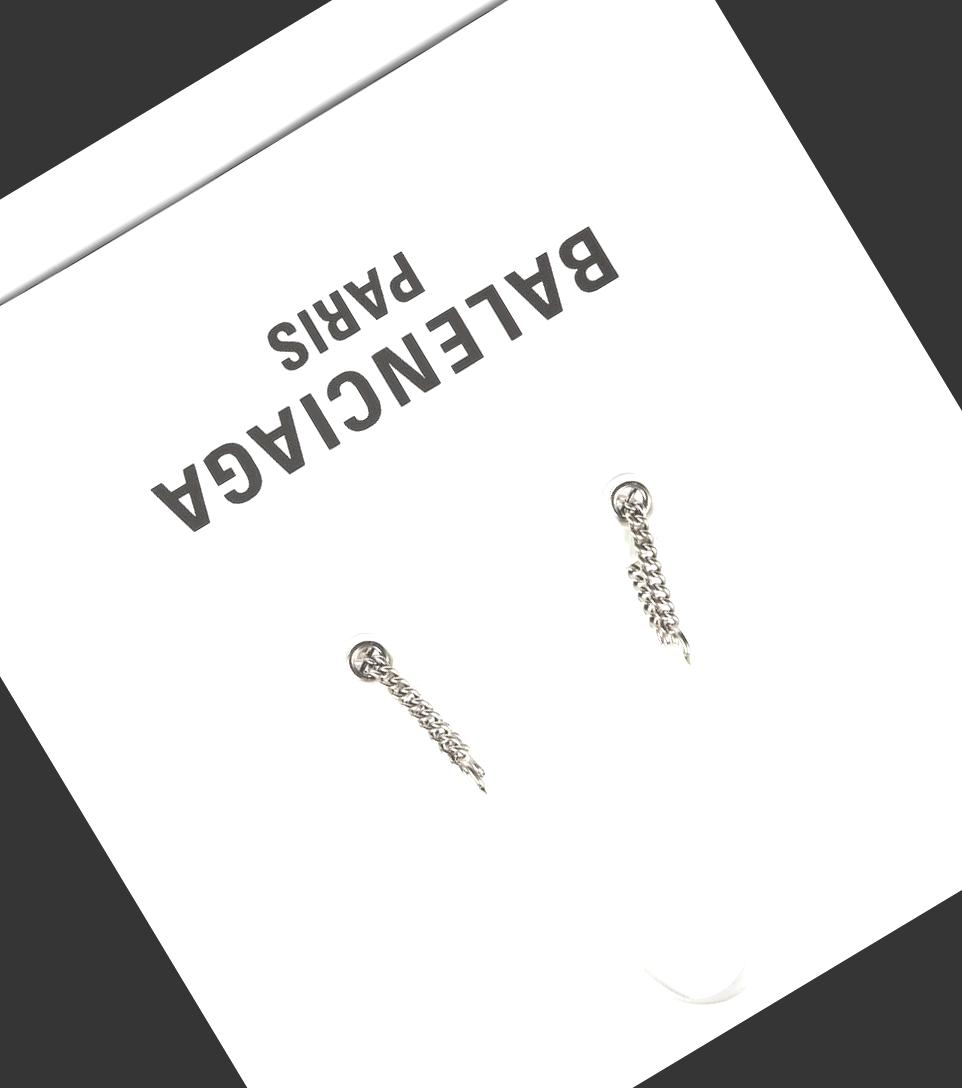BALENCIAGA: (147, 224, 620, 542)
